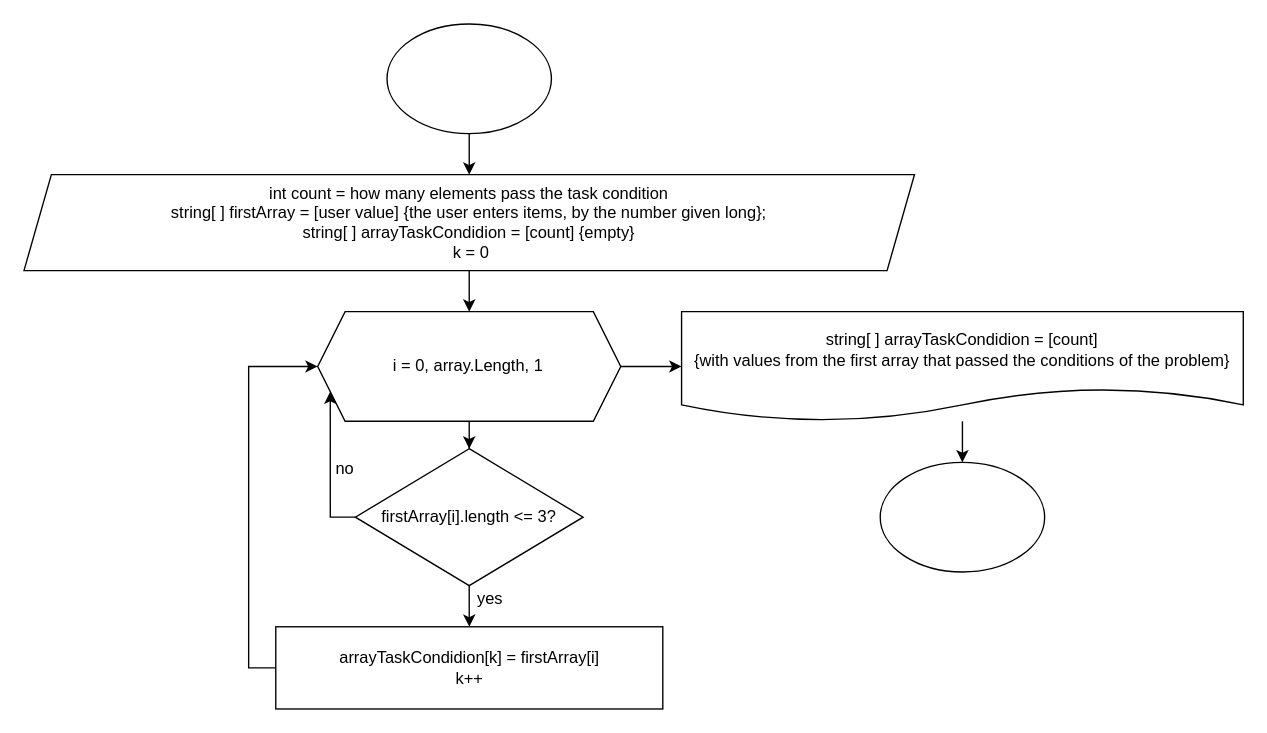
Image size: 1267x733. Some labels were removed from this diagram. The shapes that lost their labels are listed below. From the top down, each one's centre as x and y in pixels, then its label:
the point at 468,78: Start
the point at 962,516: end
